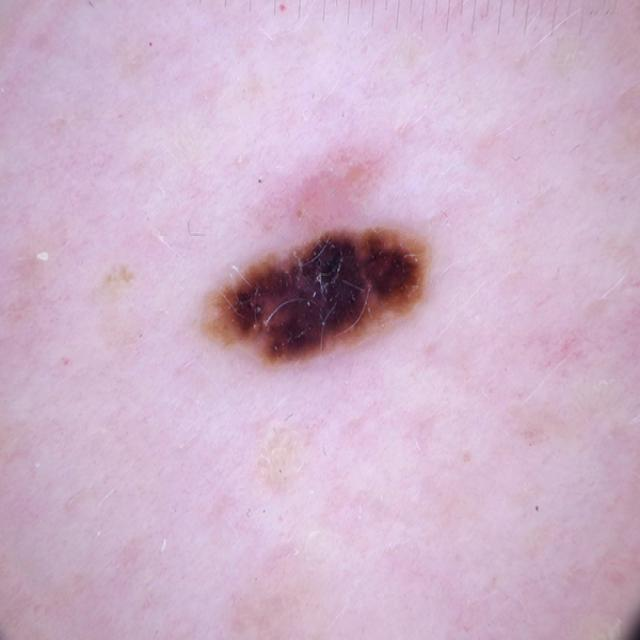Skin-Cancer Pigmented benign keratosis: (98, 65, 574, 522)
